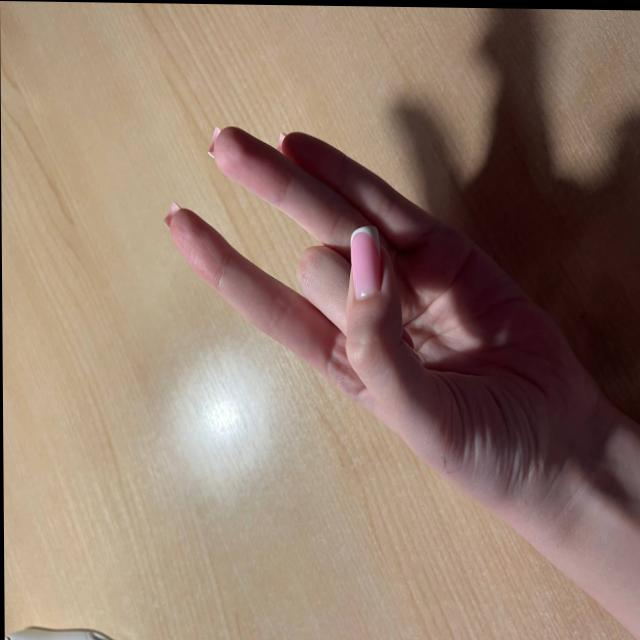r: (139, 115, 569, 518)
